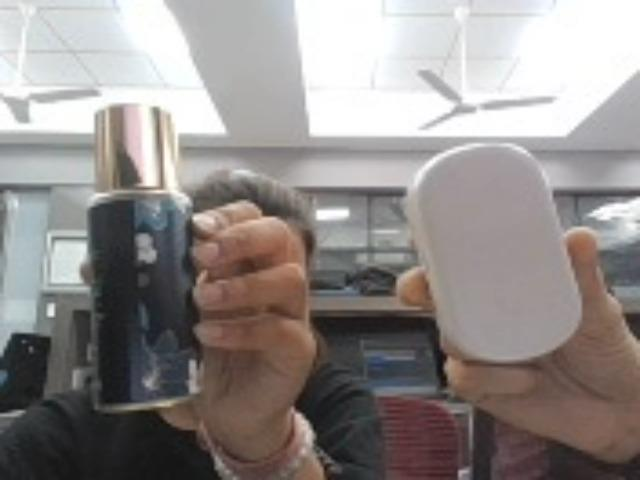box: (390, 126, 596, 375)
cube: (70, 90, 228, 406)
